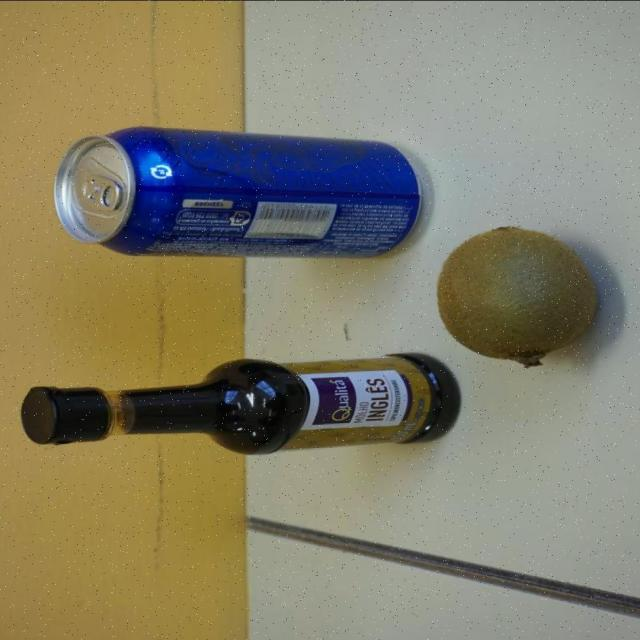EnglishSauce: (21, 352, 464, 456)
Kiwi: (437, 223, 602, 368)
Tonic: (55, 124, 429, 258)
